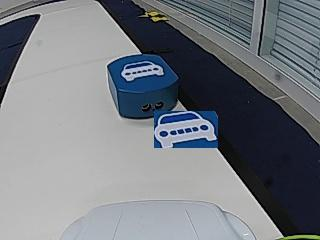safety: (120, 60, 165, 81)
